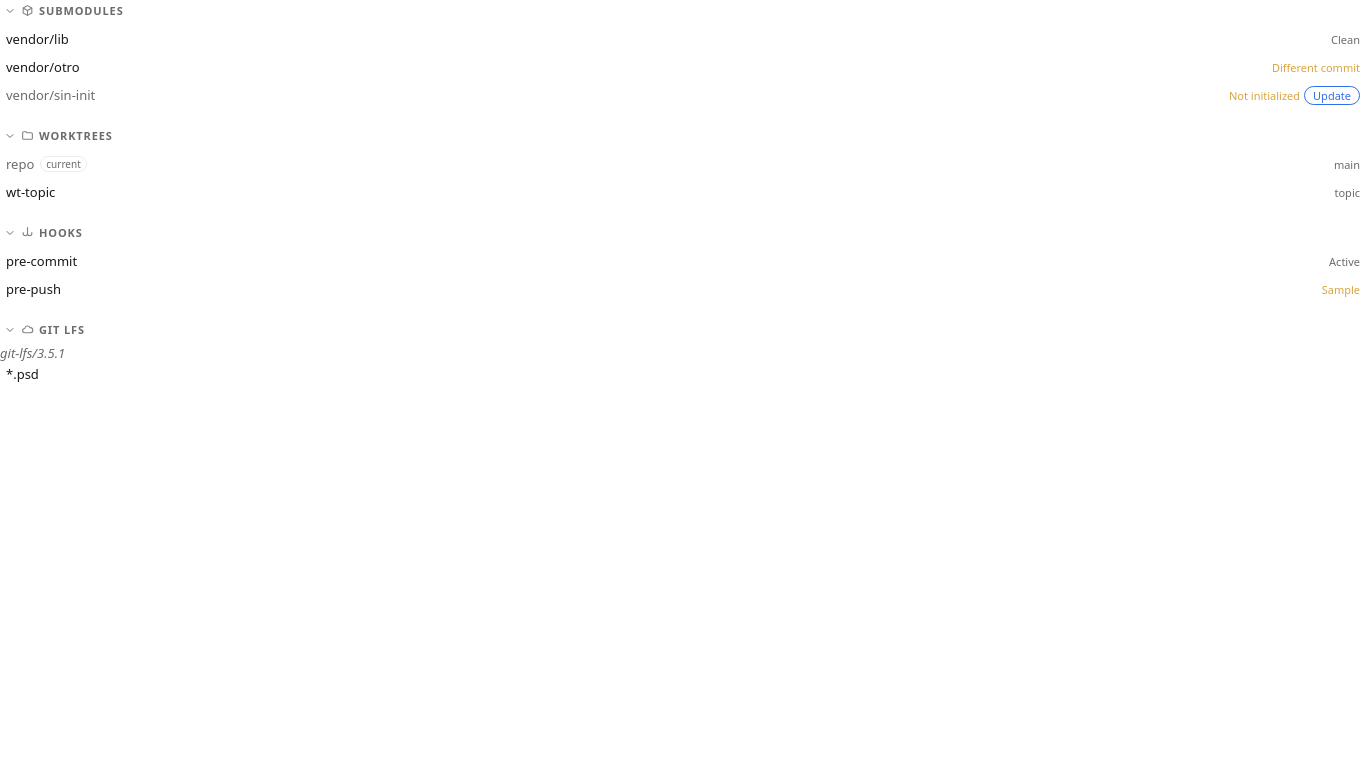
Test: ExtrasSidebar › opens the hook editor and loads its contents
This screenshot has width=1366, height=768.
Click the text "pre-commit" at point(42, 261), box x1=6 y1=252 x2=77 y2=270
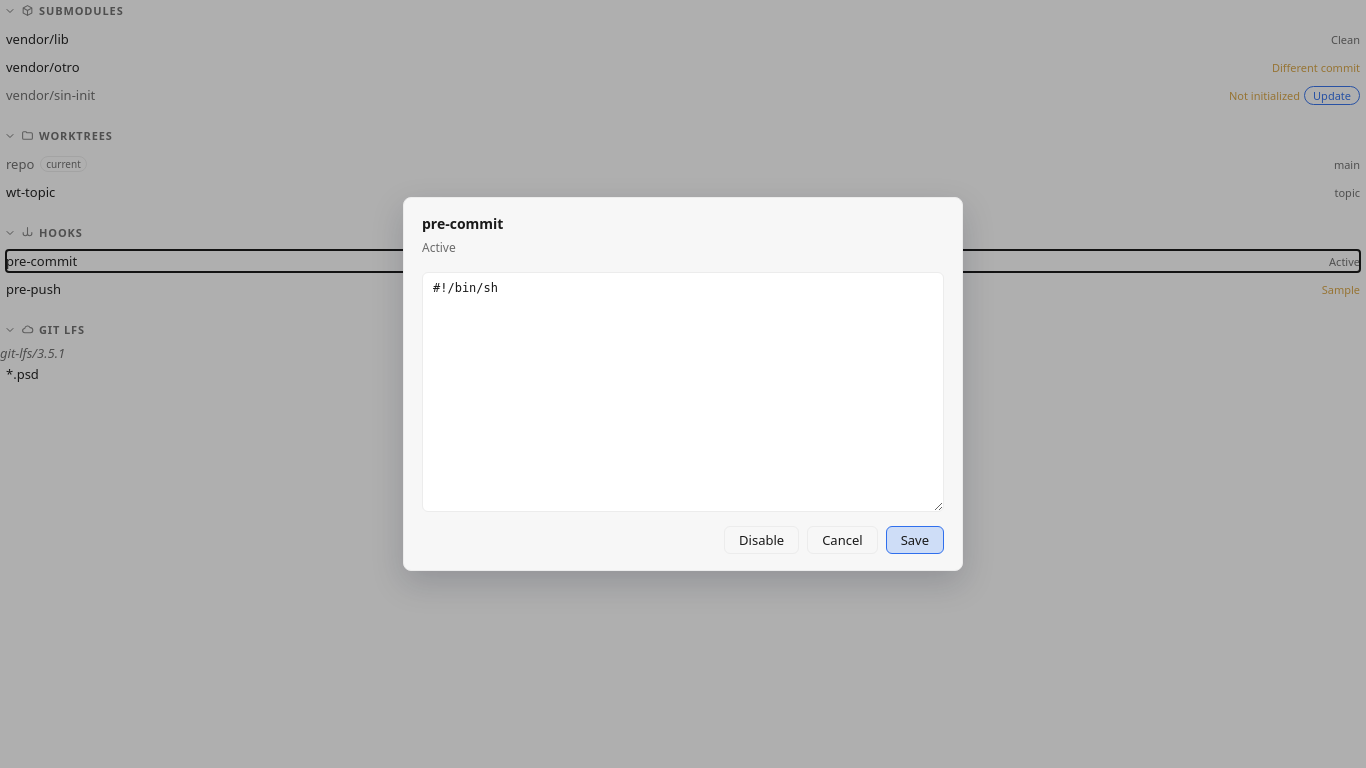
Now the text box named "Hook contents" is shown, box x1=422 y1=272 x2=944 y2=512
